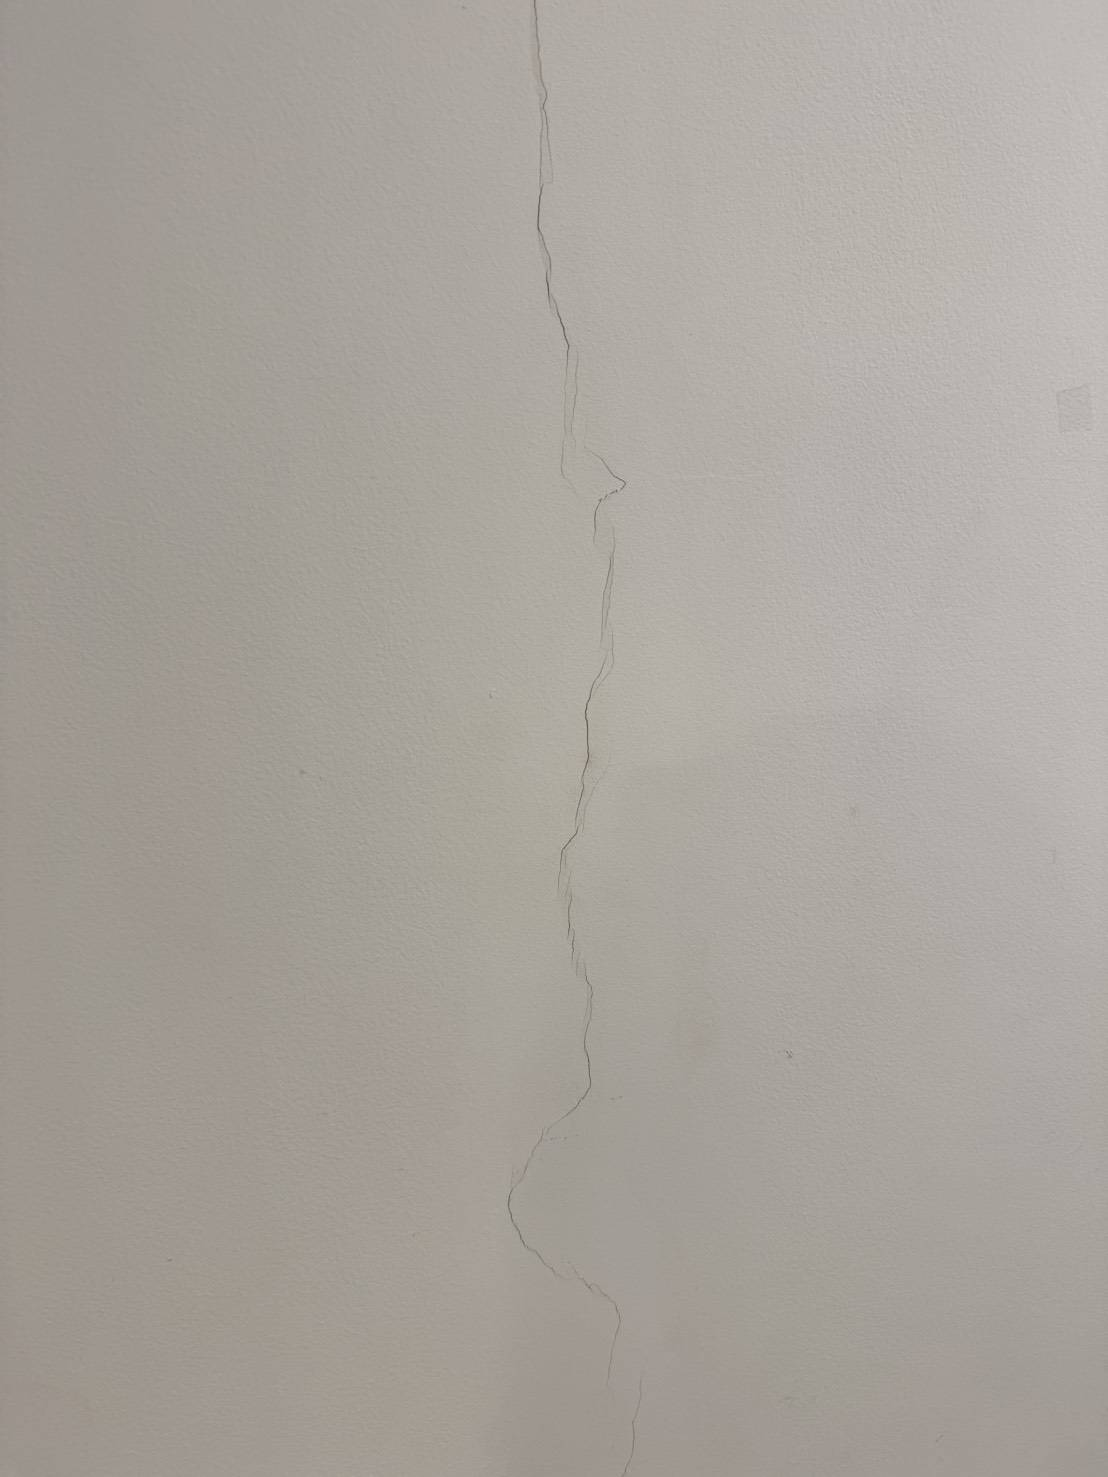Low: (481, 1, 729, 1476)
